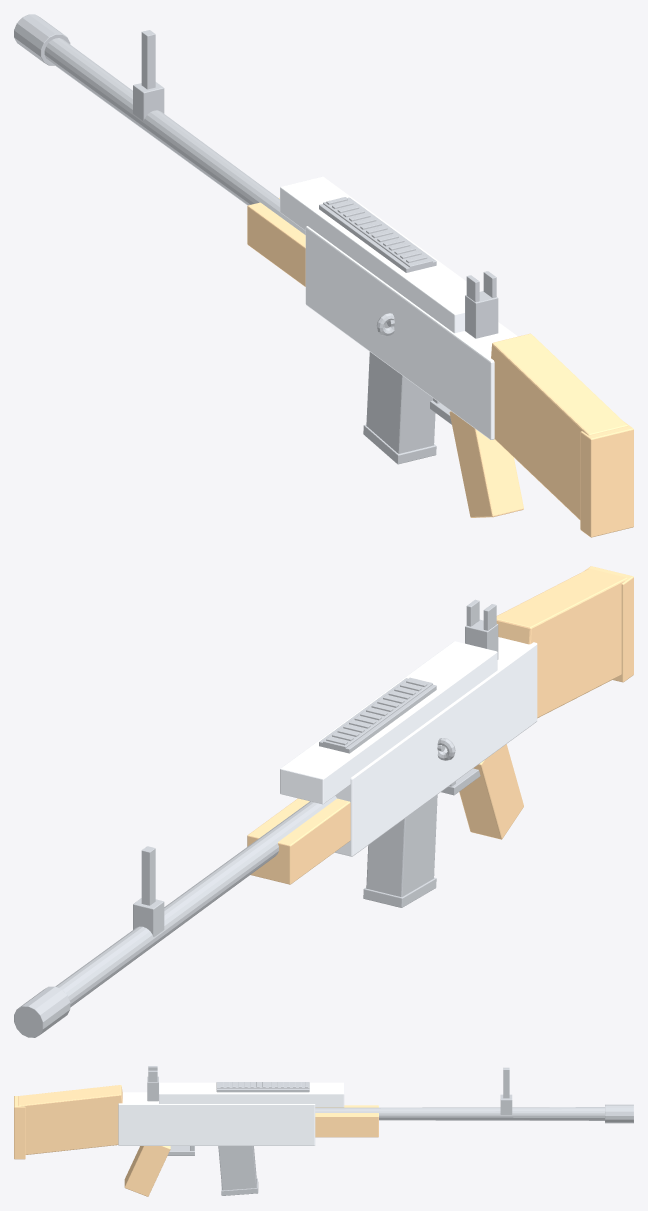
File: fal.glb
The picture shows the model from 3 angles, top to bottom: view 1: azimuth 30°, elevation 25°; view 2: azimuth 150°, elevation 25°; view 3: azimuth 270°, elevation 25°; orthographic projection. The views are drawn at different scales.
Visible parts, largest first — view 1: Receiver, StockGrip, ReceiverCover, Barrel, mag, Stock, Grip, StockIrons, TopRail, WoodHandguard, Muzzle; view 2: Receiver, StockGrip, ReceiverCover, Barrel, mag, WoodHandguard, Grip, TopRail, StockIrons, Muzzle, Stock; view 3: Receiver, StockGrip, Barrel, ReceiverCover, mag, WoodHandguard, Grip, TopRail, StockIrons, Stock, Muzzle, TriggerGuard.
Part boxes in pixels (x1,y1,x2,y2): Receiver: [305, 226, 517, 439]; StockGrip: [491, 333, 627, 519]; ReceiverCover: [280, 176, 479, 333]; Barrel: [44, 38, 305, 234]; mag: [363, 352, 436, 464]; Stock: [580, 422, 633, 537]; Grip: [449, 411, 523, 517]; StockIrons: [133, 30, 498, 338]; TopRail: [319, 197, 436, 272]; WoodHandguard: [247, 197, 305, 286]; Muzzle: [14, 14, 70, 65]; Receiver: [335, 637, 537, 856]; StockGrip: [496, 568, 627, 718]; ReceiverCover: [280, 641, 497, 804]; Barrel: [55, 796, 336, 1007]; mag: [363, 794, 437, 907]; WoodHandguard: [247, 798, 350, 884]; Grip: [459, 744, 523, 839]; TopRail: [319, 677, 436, 753]; StockIrons: [133, 599, 498, 936]; Muzzle: [14, 986, 70, 1037]; Stock: [585, 566, 633, 682]; Receiver: [118, 1092, 315, 1145]; StockGrip: [18, 1085, 122, 1154]; Barrel: [315, 1107, 604, 1120]; ReceiverCover: [159, 1082, 344, 1107]; mag: [218, 1146, 258, 1195]; WoodHandguard: [315, 1105, 378, 1137]; Grip: [124, 1146, 170, 1196]; TopRail: [216, 1082, 309, 1092]; StockIrons: [147, 1066, 512, 1114]; Stock: [14, 1096, 25, 1159]; Muzzle: [605, 1104, 633, 1123]; TriggerGuard: [167, 1146, 194, 1155].
Bounding box in the file's own units: 0.0663 × 0.2364 × 1.07.
